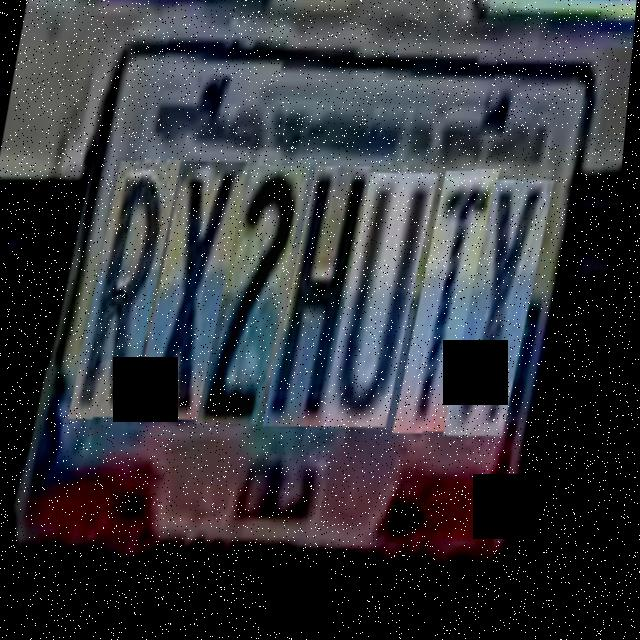2: (206, 165, 313, 434)
H: (272, 168, 379, 437)
R: (78, 156, 186, 425)
T: (402, 174, 504, 445)
U: (330, 174, 442, 439)
X: (142, 160, 255, 428), (453, 186, 559, 452)
